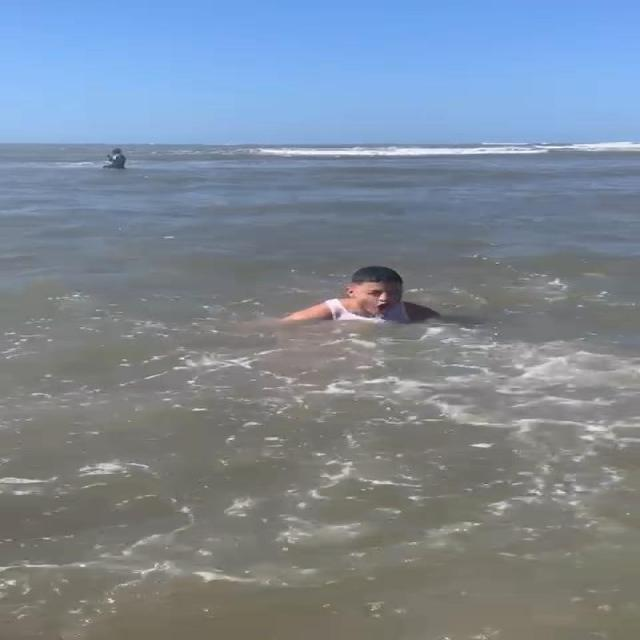Out of Water: (278, 265, 459, 333)
